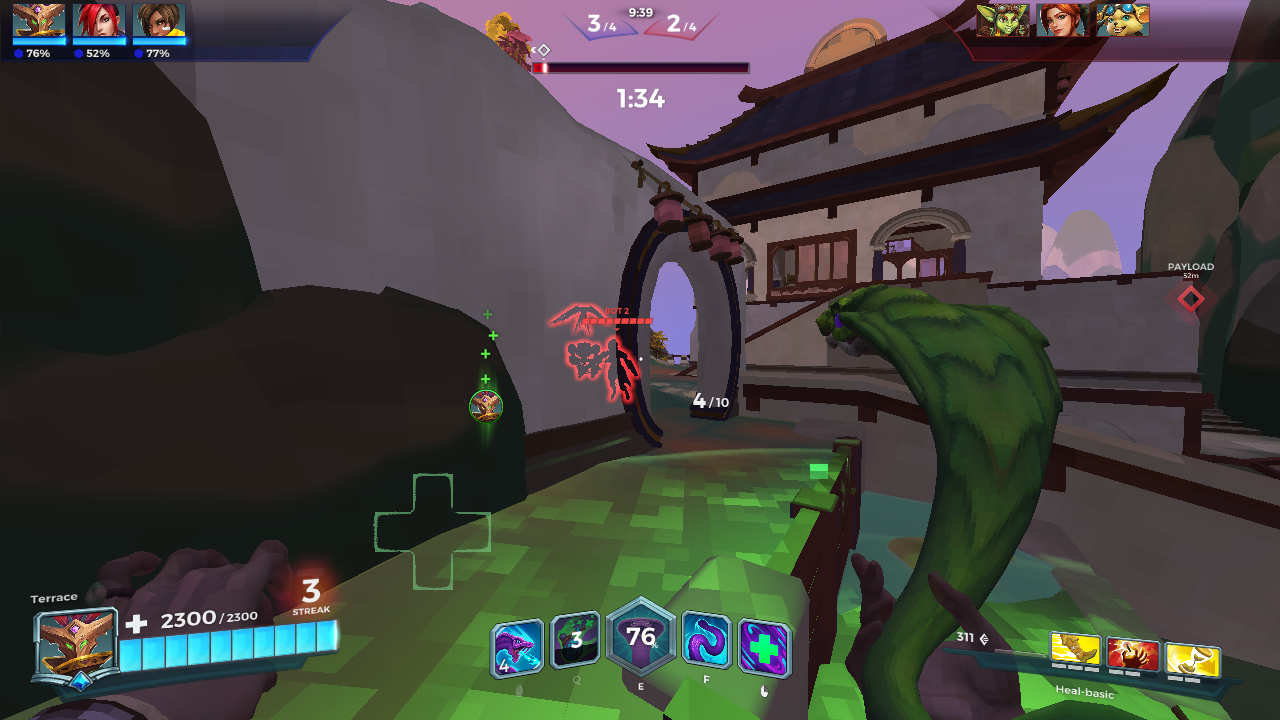model: (603, 330, 636, 401), (561, 336, 604, 390)
